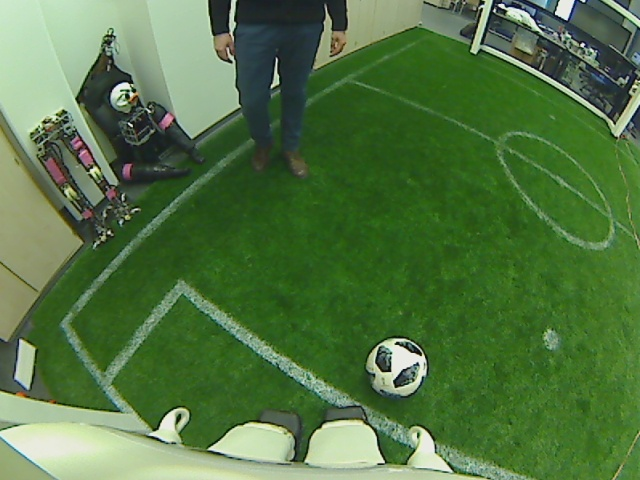ball: (362, 334, 428, 400)
